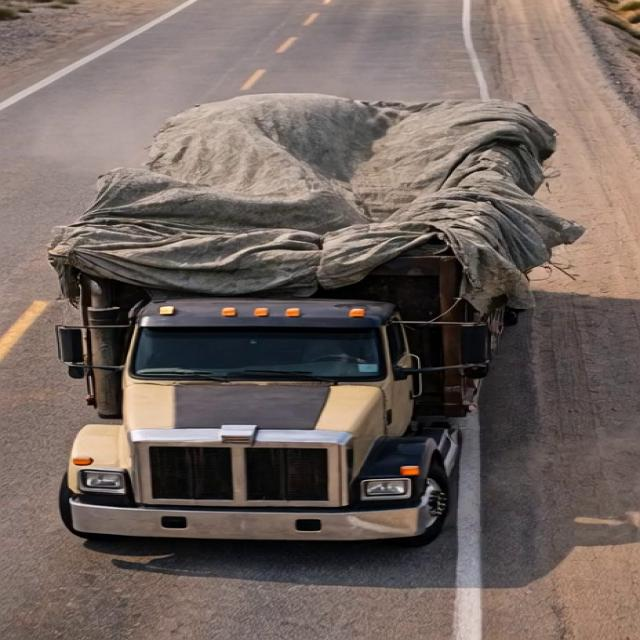trailer: (50, 84, 565, 355)
truck: (37, 54, 628, 553)
